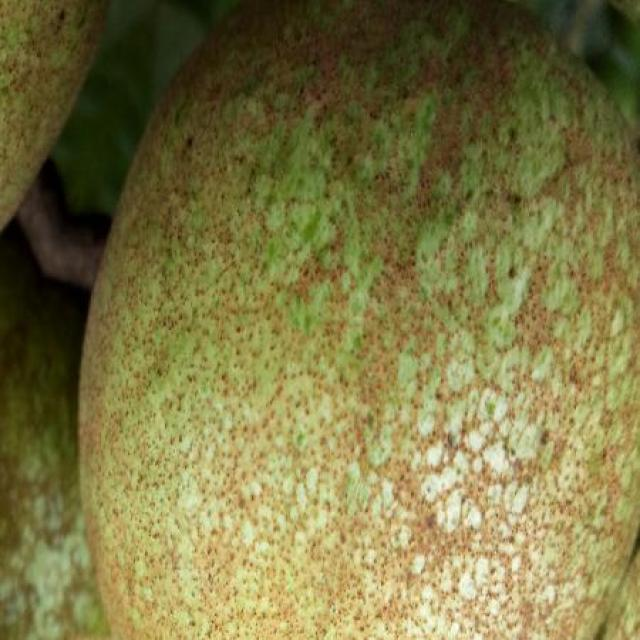Scab: (80, 0, 640, 640)
